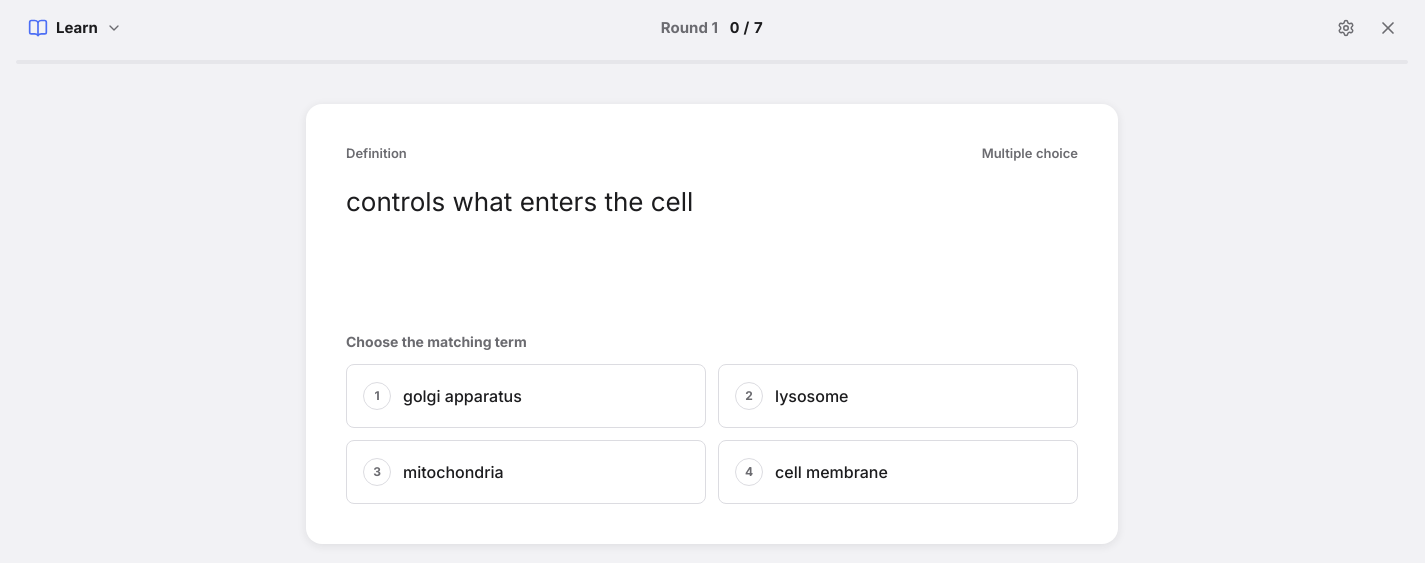
Test: Learn › asks multiple choice, reveals a miss, and persists progress
Check: the text "Round 1" is shown, box 661,17 -> 718,39
Click the button "1 golgi apparatus" at [462, 396], box 346,364 -> 706,428
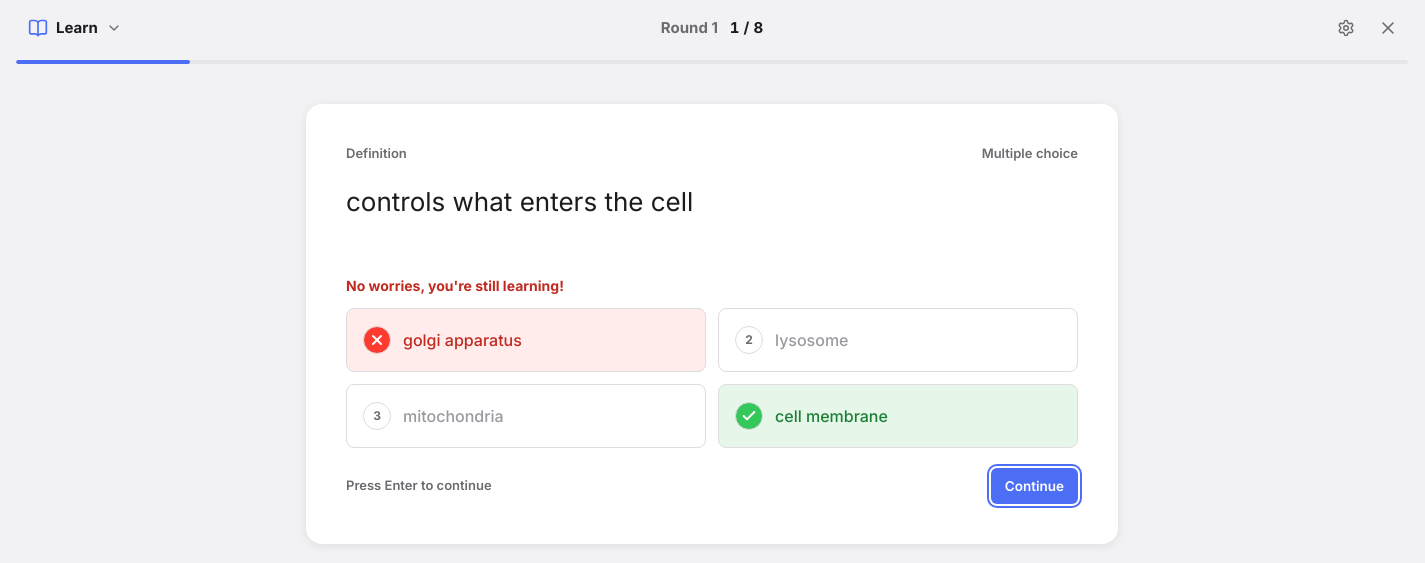
Check: the text "No worries, you're still learning!" is shown, box 346,277 -> 564,294
Check: the button "Continue" is shown, box 991,468 -> 1078,504
Press Enter
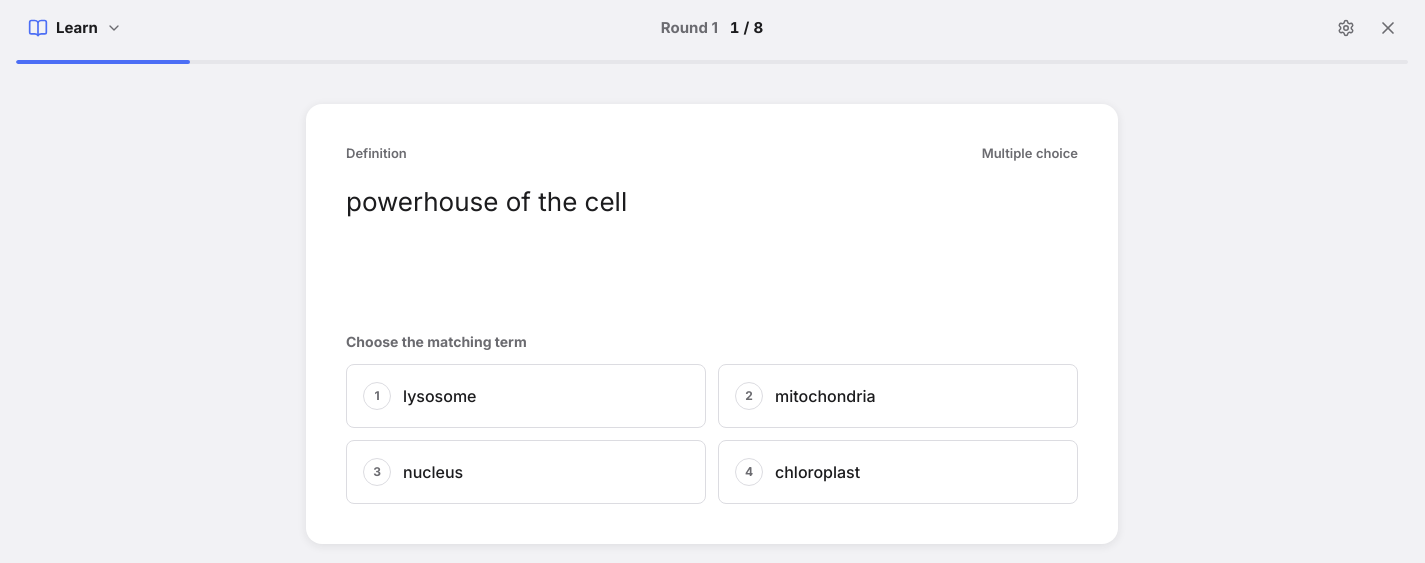
Check: the text "1 / 8" is shown, box 730,17 -> 763,39
Check: the text with id "learn-prompt" no longer shows "controls what enters the cell"
